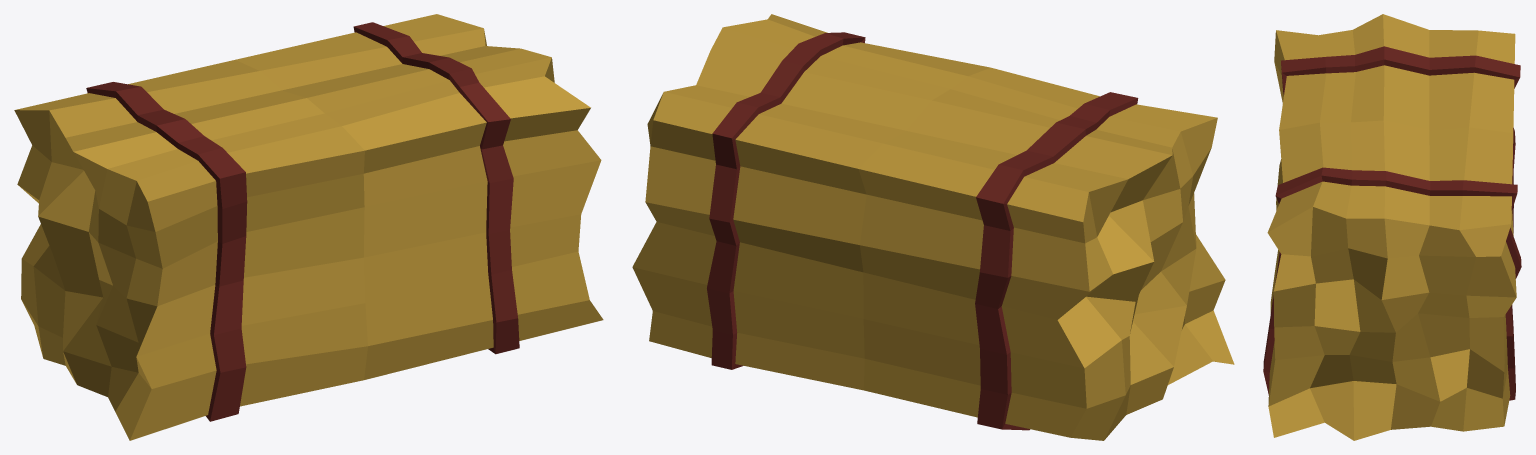
Rendered from straw_2.fbx.
3 views of the same model, side by side, from view 1: azimuth 30°, elevation 25°; view 2: azimuth 150°, elevation 25°; view 3: azimuth 270°, elevation 25° (orthographic). The views are drawn at different scales.
Visible parts, largest first — view 1: straw_2; view 2: straw_2; view 3: straw_2.
Part boxes in pixels (x1,y1,x2,y2): straw_2: (14,14,603,440); straw_2: (632,14,1234,440); straw_2: (1263,14,1521,440).
Size of the model in its own units: 193 by 99.52 by 99.63.
